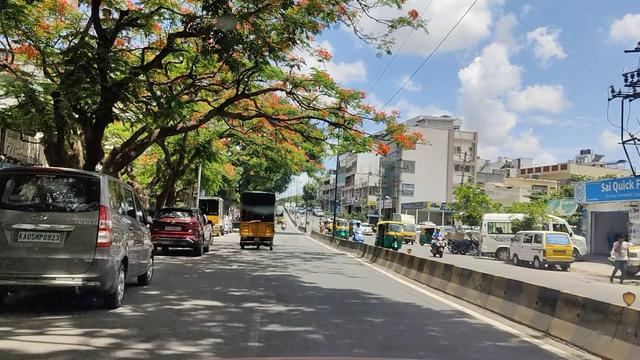HMV: (239, 191, 275, 248)
LMV: (0, 174, 143, 300), (155, 209, 200, 256)
